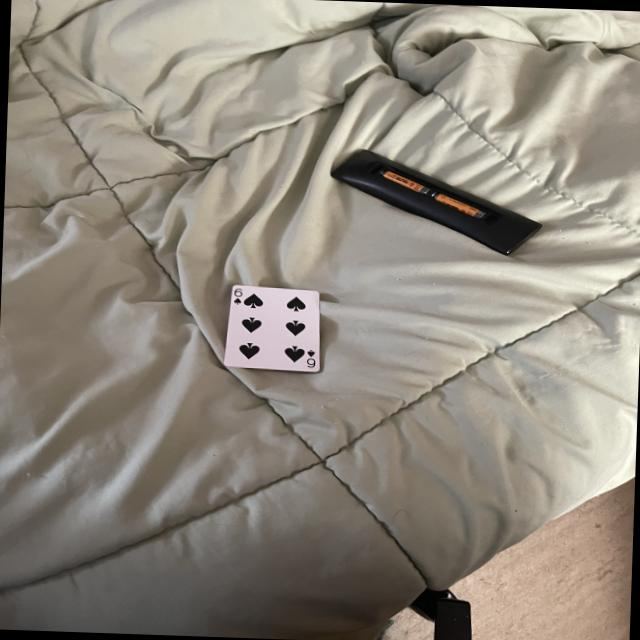6 of spades: (224, 285, 320, 371)
